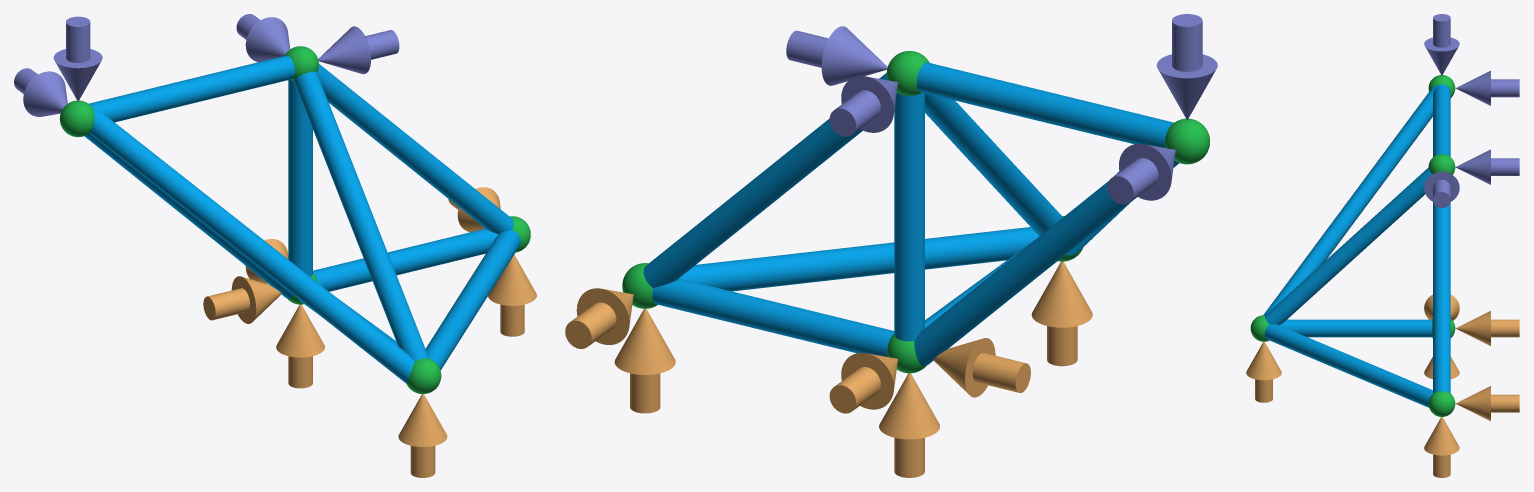
Rendered from GUE6A4.glb.
3 views of the same model, side by side, from view 1: azimuth 30°, elevation 25°; view 2: azimuth 150°, elevation 25°; view 3: azimuth 270°, elevation 25° (orthographic). The views are drawn at different scales.
Bounding box in the file's own units: 0.09 × 0.075 × 0.0615.
